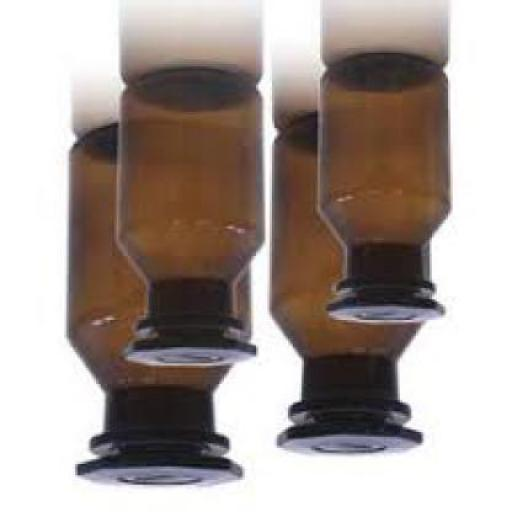glass: (68, 121, 244, 485), (272, 119, 427, 457), (119, 68, 265, 369), (322, 55, 455, 324)
